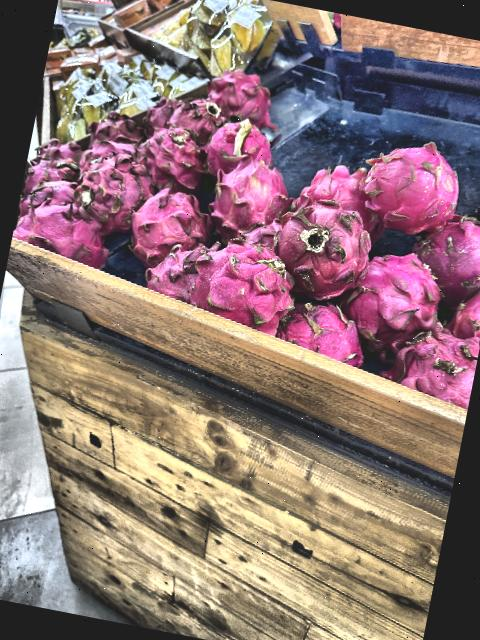buah-naga-belum-matang: (201, 154, 290, 240)
buah-naga-matang: (344, 126, 480, 231), (181, 228, 304, 336), (268, 188, 384, 302), (342, 240, 446, 356), (378, 318, 480, 416), (116, 174, 220, 267), (10, 186, 117, 269), (275, 293, 373, 377), (196, 118, 298, 194), (122, 128, 210, 198), (418, 213, 480, 304), (136, 242, 212, 302)
